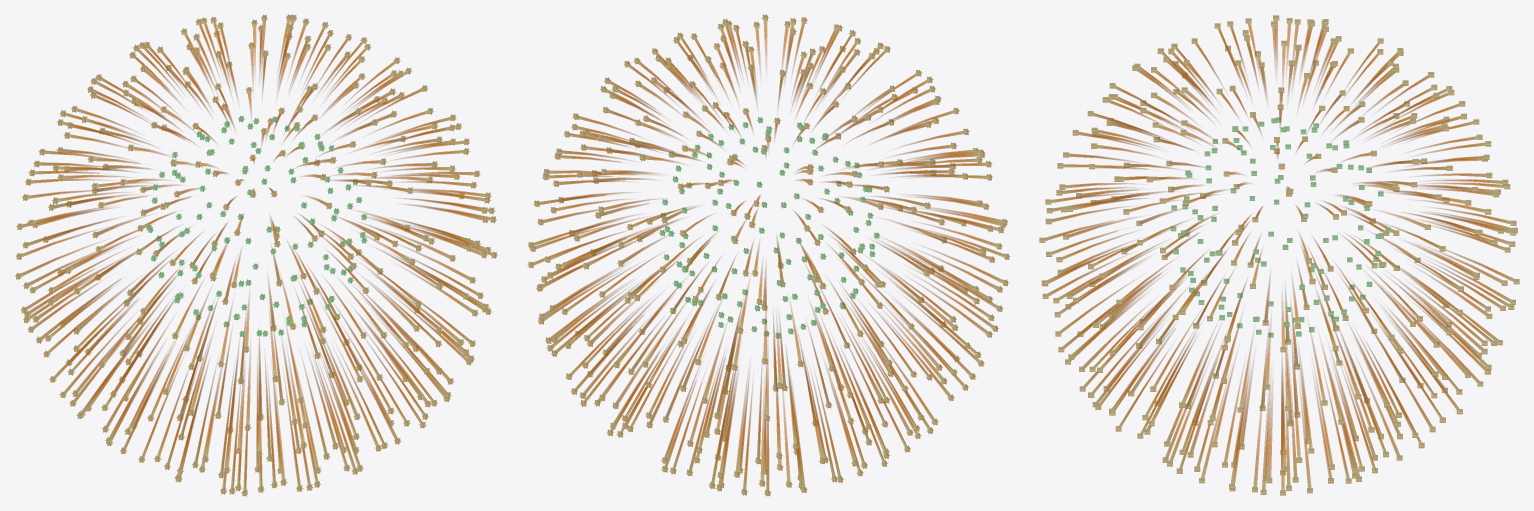
Rendered from fw_peony_green_gold_b.glb.
3 views of the same model, side by side, from view 1: azimuth 30°, elevation 25°; view 2: azimuth 150°, elevation 25°; view 3: azimuth 270°, elevation 25° (orthographic).
Visible parts, largest first — view 1: spire; view 2: spire; view 3: spire.
Boxes of the visible parts, x1,y1,x2,y2 form: spire: (14,14,497,496); spire: (527,14,1010,496); spire: (1039,15,1519,495).
Size of the model in its own units: 22.27 by 22.22 by 22.18.
2 materials, 2 textured.
